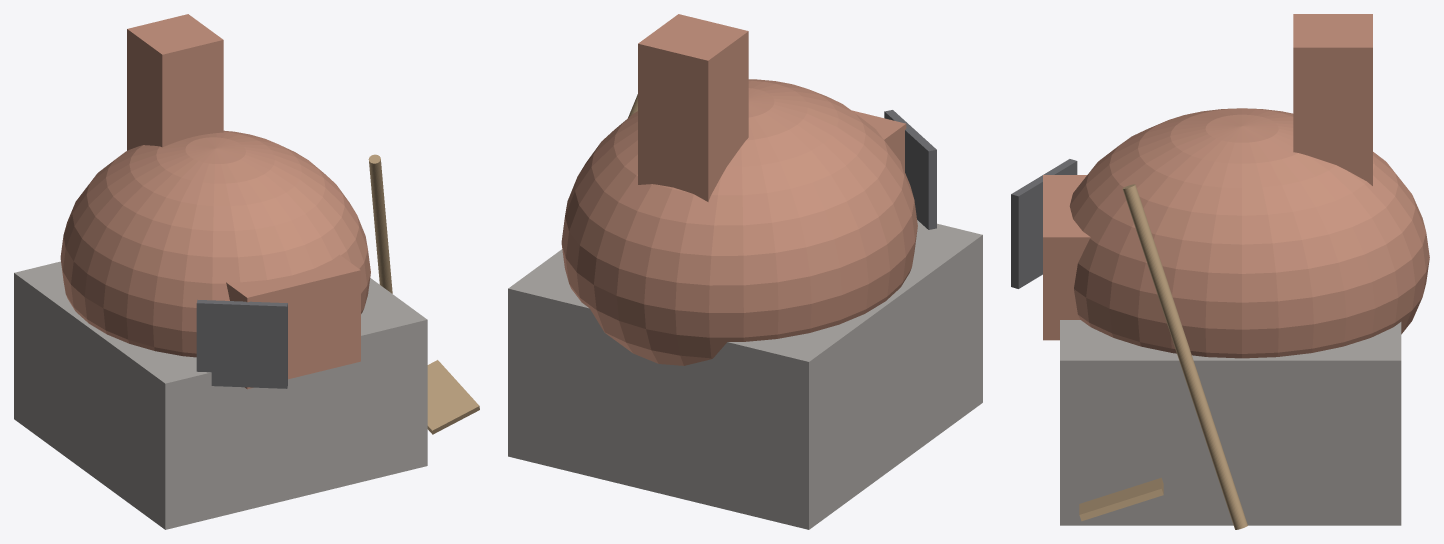
File: baker_oven.glb
3 renders of one model, left to right at view 1: azimuth 30°, elevation 25°; view 2: azimuth 150°, elevation 25°; view 3: azimuth 270°, elevation 25°, orthographic. The views are drawn at different scales.
Parts seen in each view (by area): view 1: Cube, Sphere, Cube.003, Cube.001, Cube.002, Cube.004, Cylinder.001; view 2: Cube, Sphere, Cube.003, Cube.002, Cube.001; view 3: Sphere, Cube, Cube.003, Cube.001, Cylinder.001, Cube.002, Cube.004.
Boxes of the visible parts, x1,y1,x2,y2 form: Cube: (14, 261, 427, 529); Sphere: (60, 130, 370, 357); Cube.003: (127, 14, 223, 150); Cube.001: (226, 254, 360, 389); Cube.002: (196, 299, 287, 388); Cube.004: (427, 360, 479, 434); Cylinder.001: (368, 154, 392, 293); Cube: (508, 220, 982, 529); Sphere: (561, 79, 917, 365); Cube.003: (638, 14, 748, 201); Cube.002: (884, 110, 936, 229); Cube.001: (852, 110, 906, 171); Sphere: (1069, 108, 1429, 358); Cube: (1060, 320, 1401, 525); Cube.003: (1293, 14, 1372, 185); Cube.001: (1043, 175, 1090, 340); Cylinder.001: (1122, 184, 1247, 529); Cube.002: (1011, 159, 1077, 288); Cube.004: (1079, 477, 1163, 521).
Bounding box in the file's own units: 1.85 × 2.05 × 1.84.
